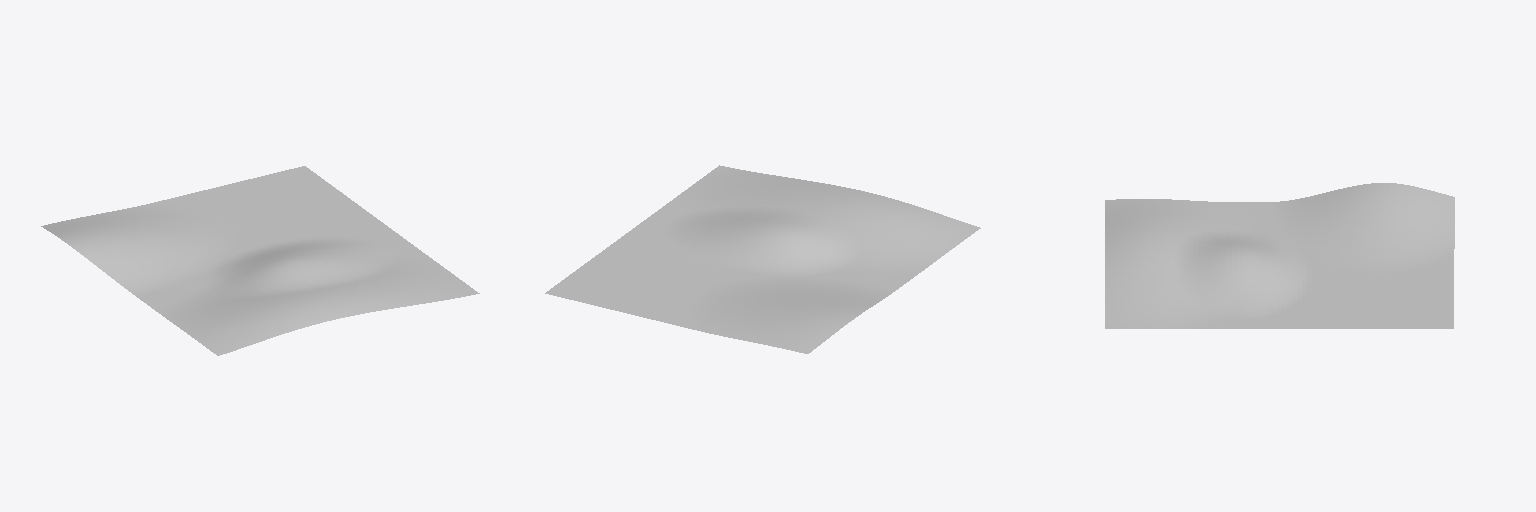
The model's file is plaine2.obj.
3 views of the same model, side by side, from view 1: azimuth 30°, elevation 25°; view 2: azimuth 150°, elevation 25°; view 3: azimuth 270°, elevation 25° (orthographic).
Size of the model in its own units: 15.73 by 0.7514 by 17.54.